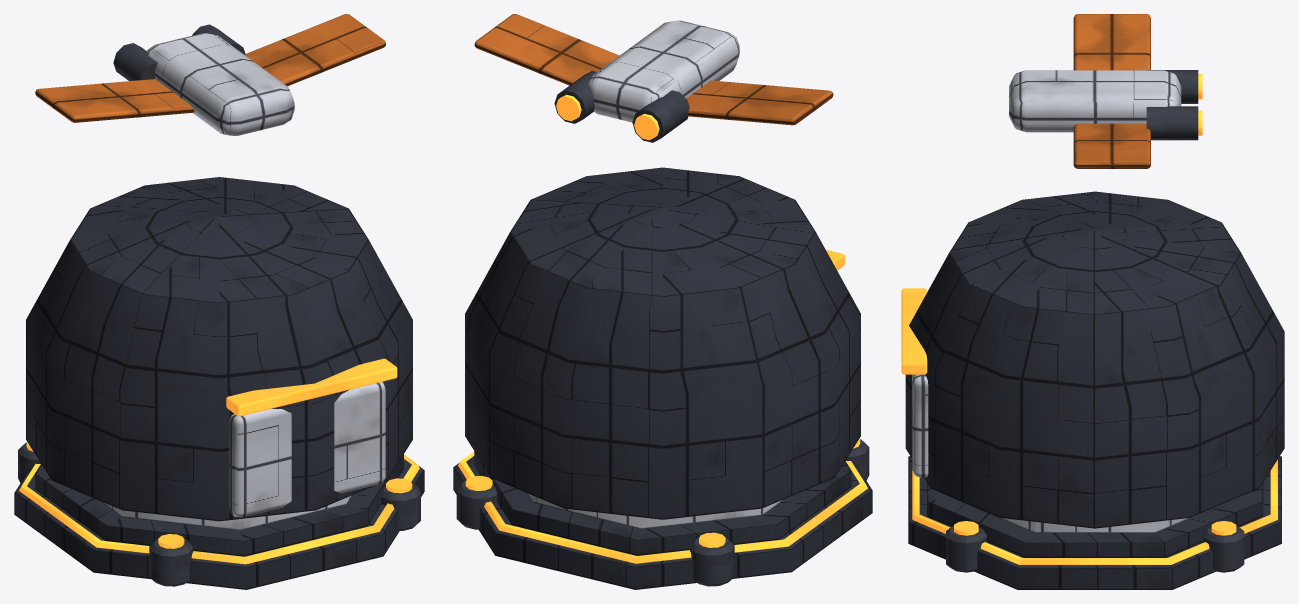
The model's file is sf_phoenix.glb.
The picture shows the model from 3 angles, left to right: view 1: azimuth 30°, elevation 25°; view 2: azimuth 150°, elevation 25°; view 3: azimuth 270°, elevation 25°; orthographic projection. The views are drawn at different scales.
Visible parts, largest first — view 1: Base, Turret; view 2: Base, Turret; view 3: Base, Turret.
Part boxes in pixels (x1=…): Base: x1=14, y1=177, x2=424, y2=589; Turret: x1=35, y1=14, x2=385, y2=135; Base: x1=453, y1=167, x2=872, y2=589; Turret: x1=474, y1=14, x2=833, y2=142; Base: x1=901, y1=191, x2=1284, y2=589; Turret: x1=1009, y1=14, x2=1202, y2=168.
Bounding box in the file's own units: 0.88 × 1.1 × 0.89.
5 materials, 5 textured.
